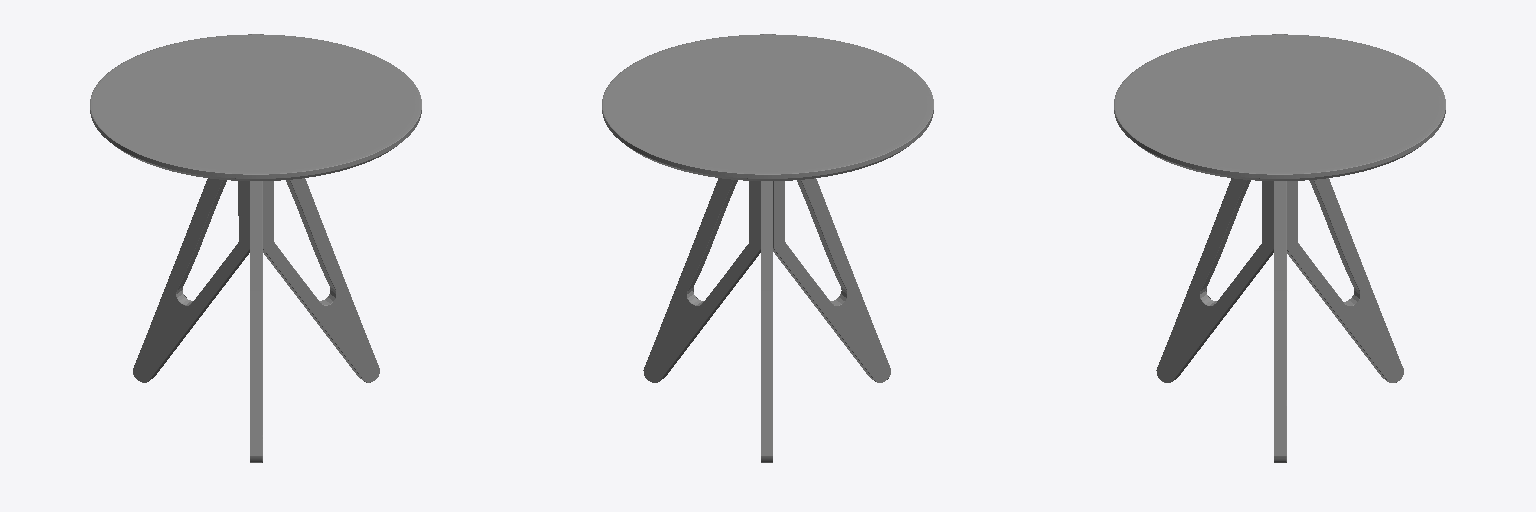
The model's file is table.obj.
3 views of the same model, side by side, from view 1: azimuth 30°, elevation 25°; view 2: azimuth 150°, elevation 25°; view 3: azimuth 270°, elevation 25° (orthographic).
Visible parts, largest first — view 1: Cylinder003; view 2: Cylinder003; view 3: Cylinder003.
Boxes of the visible parts, box(x1,y1,x2,y2) form: Cylinder003: box(90, 34, 421, 462); Cylinder003: box(602, 34, 933, 462); Cylinder003: box(1114, 34, 1445, 462).
Size of the model in its own units: 51.93 by 52.38 by 51.93.